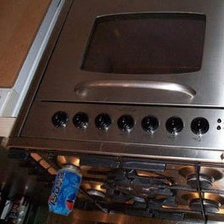can: (44, 159, 84, 219)
